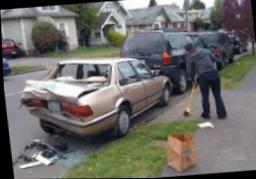Dickey: (19, 78, 100, 121)
Light: (21, 96, 47, 108)
Windshield: (45, 63, 107, 83)
